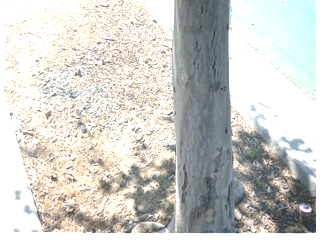Edge: (5, 96, 44, 230)
Obstacle: (170, 2, 244, 233)
